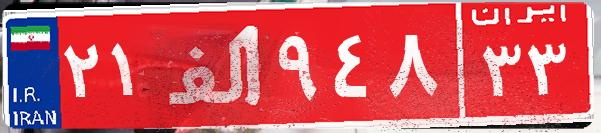1: (110, 28, 158, 105)
2: (57, 26, 110, 107)
3: (475, 38, 525, 113), (525, 38, 570, 115)
4: (330, 28, 385, 110)
8: (385, 28, 445, 110)
9: (273, 28, 330, 110)
الف: (158, 15, 273, 115)
